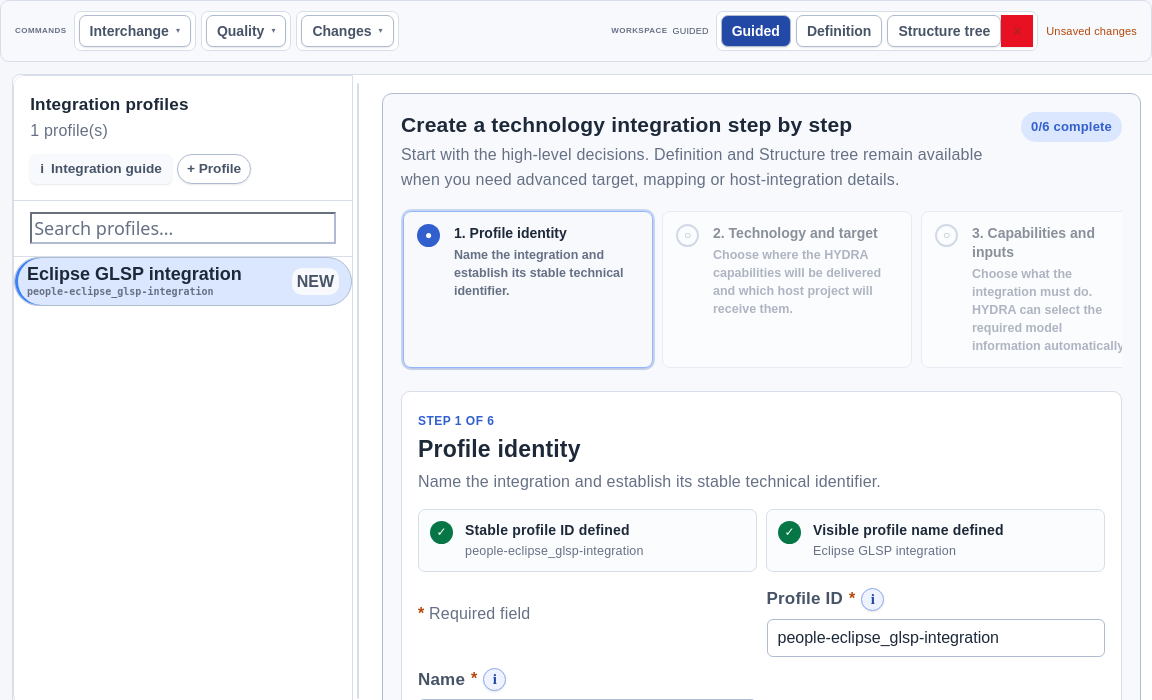
Test case: IntegrationDesigner › creates mappings using the locator strategies of the selected target
The width and height of the screenshot is (1152, 700).
Click the button "Definition" at [839, 31], box [796, 15, 882, 47]
(page scrolled)
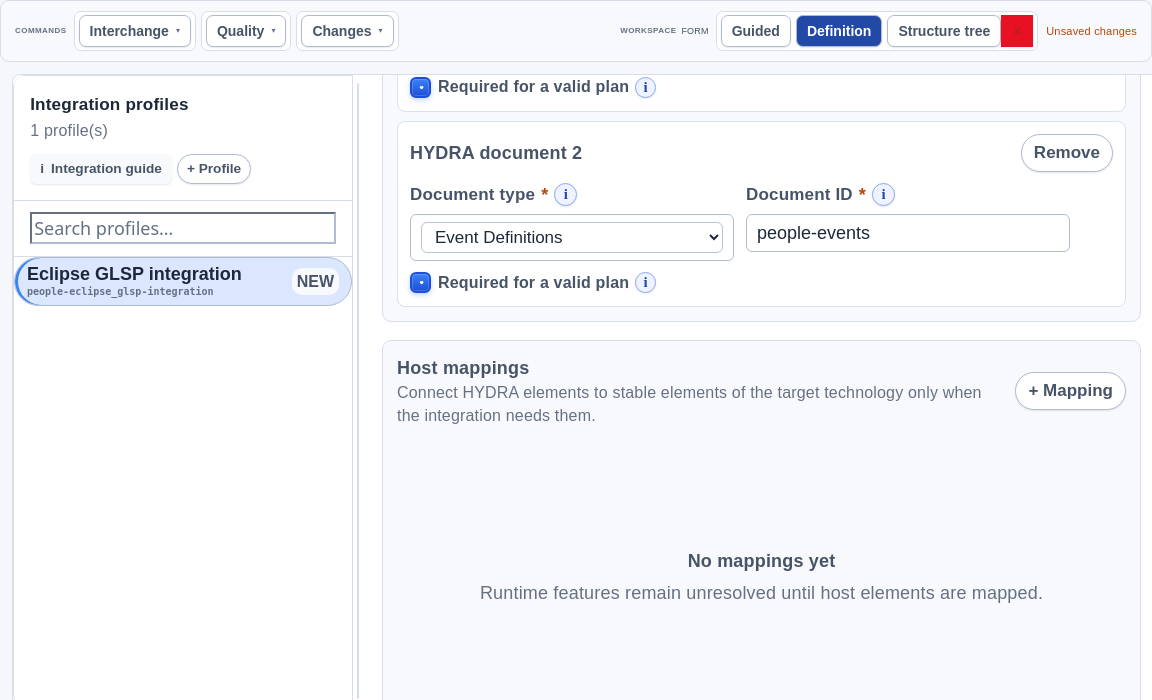
Click the button "+ Mapping" at [1071, 391], box [1016, 372, 1126, 410]
(page scrolled)
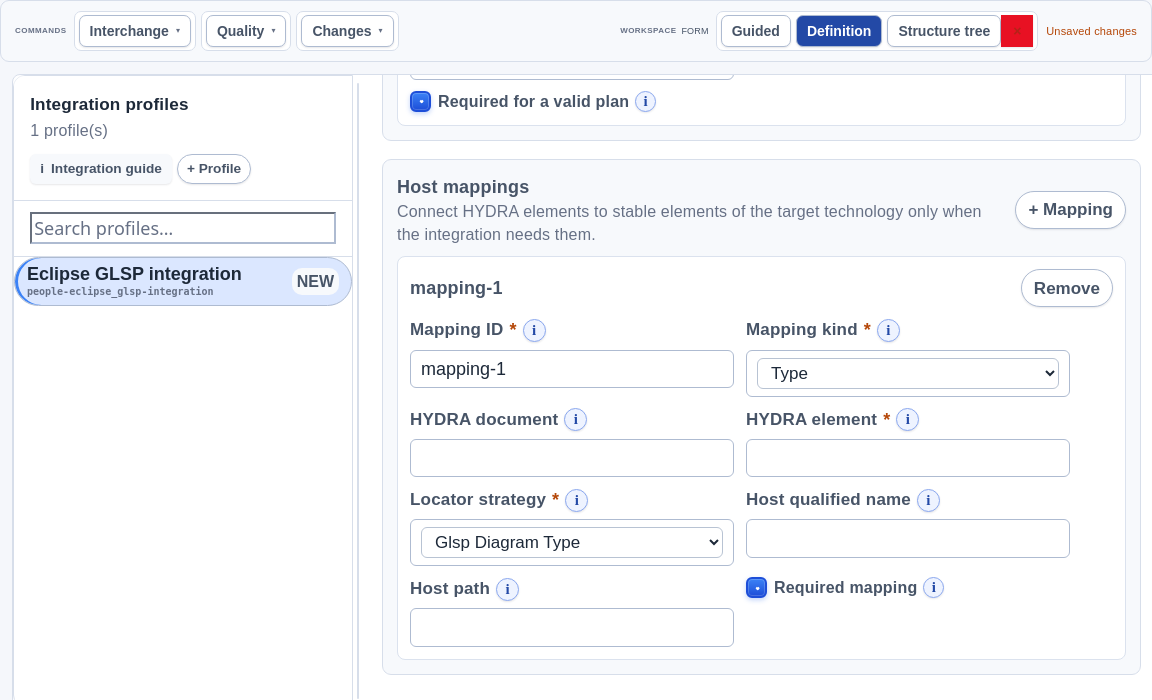
expect the dropdown named "Locator strategy 1" shows "Glsp Diagram Type": met, box [421, 527, 723, 558]
